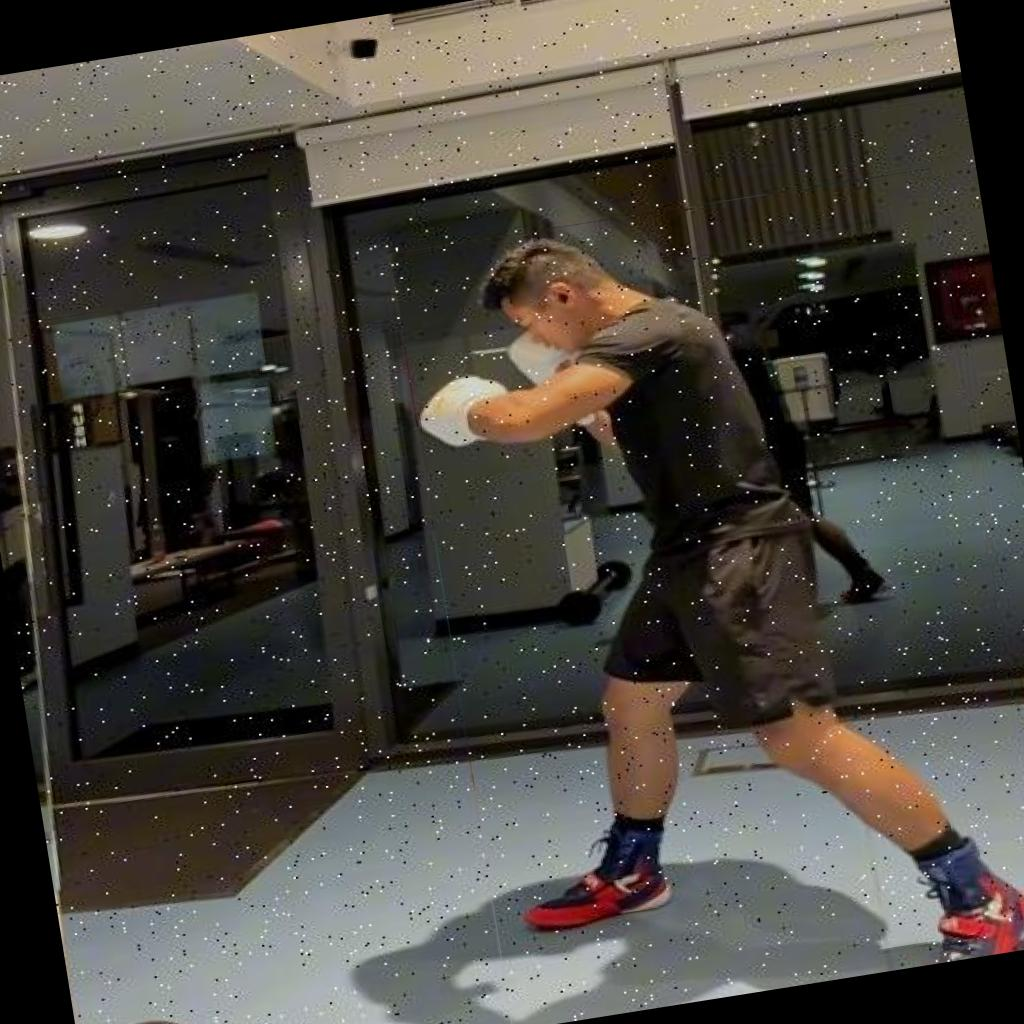hook: (389, 167, 1024, 1024)
